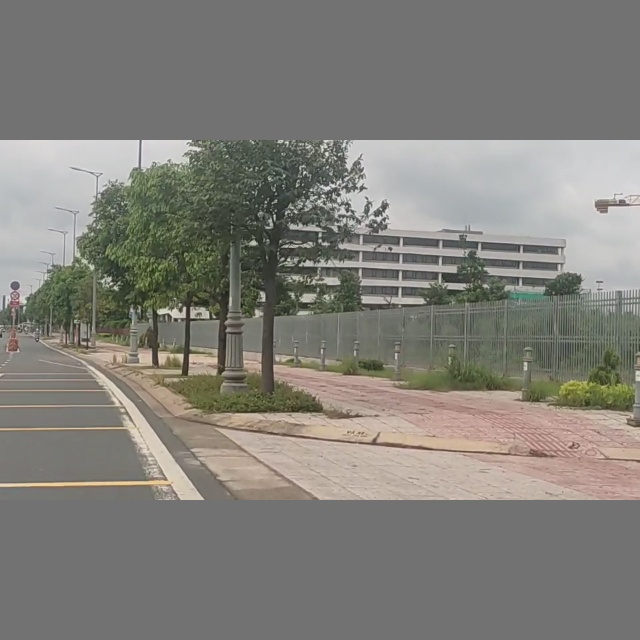P.111: (9, 291, 20, 301)
P.130: (9, 281, 21, 290)
